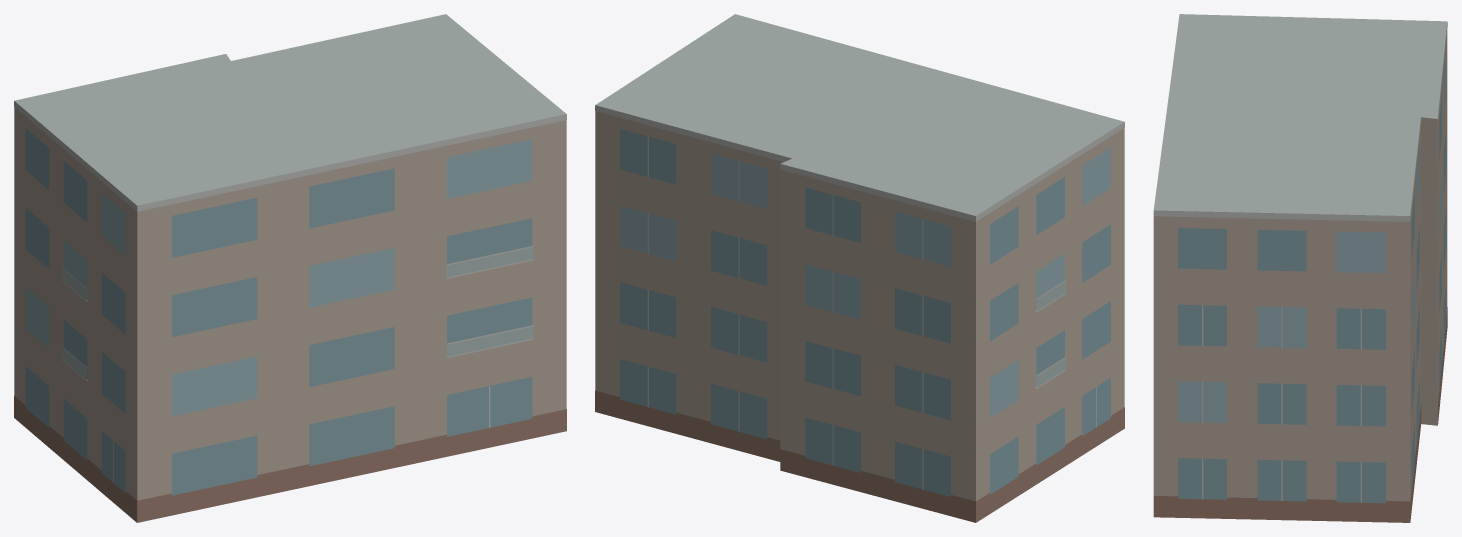
File: survey-upis-32744310.glb
3 views of the same model, side by side, from view 1: azimuth 30°, elevation 25°; view 2: azimuth 150°, elevation 25°; view 3: azimuth 270°, elevation 25° (orthographic). The views are drawn at different scales.
Visible parts, largest first — view 1: survey-upis-32744310.tmp; view 2: survey-upis-32744310.tmp; view 3: survey-upis-32744310.tmp.
Part boxes in pixels (box(x1,y1,x2,y2)): survey-upis-32744310.tmp: box(14, 14, 566, 522); survey-upis-32744310.tmp: box(595, 14, 1124, 522); survey-upis-32744310.tmp: box(1153, 14, 1447, 522).
Bounding box in the file's own units: 18.1 × 12.8 × 11.12.
